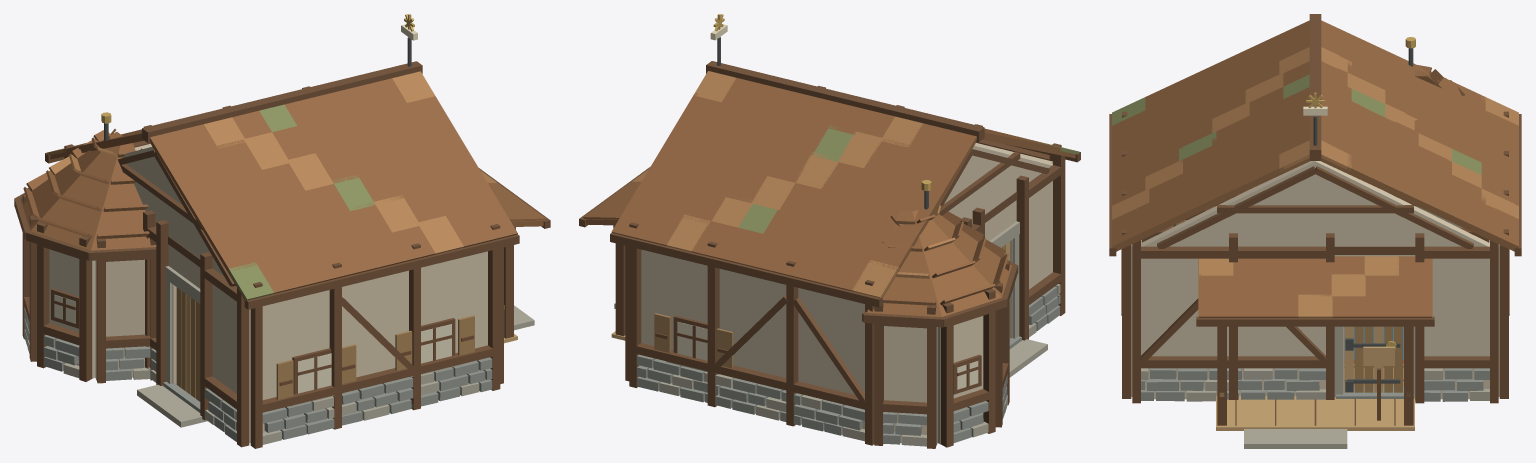
The model's file is holm_quest_lodge_v1.glb.
3 views of the same model, side by side, from view 1: azimuth 30°, elevation 25°; view 2: azimuth 150°, elevation 25°; view 3: azimuth 270°, elevation 25° (orthographic). The views are drawn at different scales.
Visible parts, largest first — view 1: Roof_Workyard_Shingle_Umber, Static_Workyard_Oak_Dark, Static_Workyard_Warm_Limewash, Roof_Workyard_Oak_Dark, Static_Workyard_Fieldstone, Roof_Workyard_Shingle_Sun, Static_Workyard_Fieldstone_Light, Roof_Workyard_Warm_Limewash, Roof_Workyard_Shingle_Moss, Static_Workyard_Oak_Worn, Static_Workyard_Chalk, road_door_Workyard_Oak_Worn; view 2: Roof_Workyard_Shingle_Umber, Static_Workyard_Oak_Dark, Static_Workyard_Warm_Limewash, Roof_Workyard_Oak_Dark, Static_Workyard_Fieldstone, Roof_Workyard_Shingle_Sun, Static_Workyard_Fieldstone_Light, Roof_Workyard_Warm_Limewash, Roof_Workyard_Shingle_Moss, Static_Workyard_Chalk, Static_Workyard_Oak_Worn; view 3: Roof_Workyard_Shingle_Umber, Static_Workyard_Oak_Dark, Static_Workyard_Warm_Limewash, Roof_Workyard_Warm_Limewash, Roof_Workyard_Shingle_Sun, Roof_Workyard_Oak_Dark, Static_Workyard_Fresh_Cut, Static_Workyard_Fieldstone, Static_Workyard_Fieldstone_Light, Roof_Workyard_Shingle_Moss, lodge_door_Workyard_Oak_Worn, lodge_door_Workyard_Fresh_Cut (+1 smaller).
Part boxes in pixels (bbox=[...]): Roof_Workyard_Shingle_Umber: bbox=[20, 78, 546, 299]; Static_Workyard_Oak_Dark: bbox=[22, 86, 515, 448]; Static_Workyard_Warm_Limewash: bbox=[49, 144, 487, 443]; Roof_Workyard_Oak_Dark: bbox=[14, 61, 550, 309]; Static_Workyard_Fieldstone: bbox=[24, 308, 492, 441]; Roof_Workyard_Shingle_Sun: bbox=[47, 71, 496, 254]; Static_Workyard_Fieldstone_Light: bbox=[27, 266, 534, 444]; Roof_Workyard_Warm_Limewash: bbox=[123, 146, 223, 276]; Roof_Workyard_Shingle_Moss: bbox=[228, 104, 375, 300]; Static_Workyard_Oak_Worn: bbox=[276, 305, 504, 399]; Static_Workyard_Chalk: bbox=[54, 294, 451, 393]; road_door_Workyard_Oak_Worn: bbox=[176, 287, 200, 401]; Roof_Workyard_Shingle_Umber: bbox=[583, 78, 1075, 316]; Static_Workyard_Oak_Dark: bbox=[613, 85, 1065, 448]; Static_Workyard_Warm_Limewash: bbox=[641, 143, 1052, 444]; Roof_Workyard_Oak_Dark: bbox=[579, 61, 1080, 327]; Static_Workyard_Fieldstone: bbox=[637, 286, 1060, 444]; Roof_Workyard_Shingle_Sun: bbox=[632, 71, 955, 298]; Static_Workyard_Fieldstone_Light: bbox=[614, 221, 1060, 446]; Roof_Workyard_Warm_Limewash: bbox=[942, 146, 1051, 223]; Roof_Workyard_Shingle_Moss: bbox=[738, 125, 1078, 233]; Static_Workyard_Chalk: bbox=[677, 321, 978, 389]; Static_Workyard_Oak_Worn: bbox=[624, 303, 733, 368]; Roof_Workyard_Shingle_Umber: bbox=[1112, 20, 1518, 317]; Static_Workyard_Oak_Dark: bbox=[1121, 111, 1509, 425]; Static_Workyard_Warm_Limewash: bbox=[1131, 206, 1499, 399]; Roof_Workyard_Warm_Limewash: bbox=[1141, 161, 1489, 246]; Roof_Workyard_Shingle_Sun: bbox=[1112, 47, 1518, 317]; Roof_Workyard_Oak_Dark: bbox=[1109, 14, 1521, 326]; Static_Workyard_Fresh_Cut: bbox=[1216, 346, 1414, 430]; Static_Workyard_Fieldstone: bbox=[1141, 368, 1489, 401]; Static_Workyard_Fieldstone_Light: bbox=[1141, 326, 1489, 448]; Roof_Workyard_Shingle_Moss: bbox=[1112, 74, 1481, 174]; lodge_door_Workyard_Oak_Worn: bbox=[1354, 326, 1402, 392]; lodge_door_Workyard_Fresh_Cut: bbox=[1344, 326, 1383, 392].
Size of the model in its own units: 12.6 by 8.65 by 10.38.
